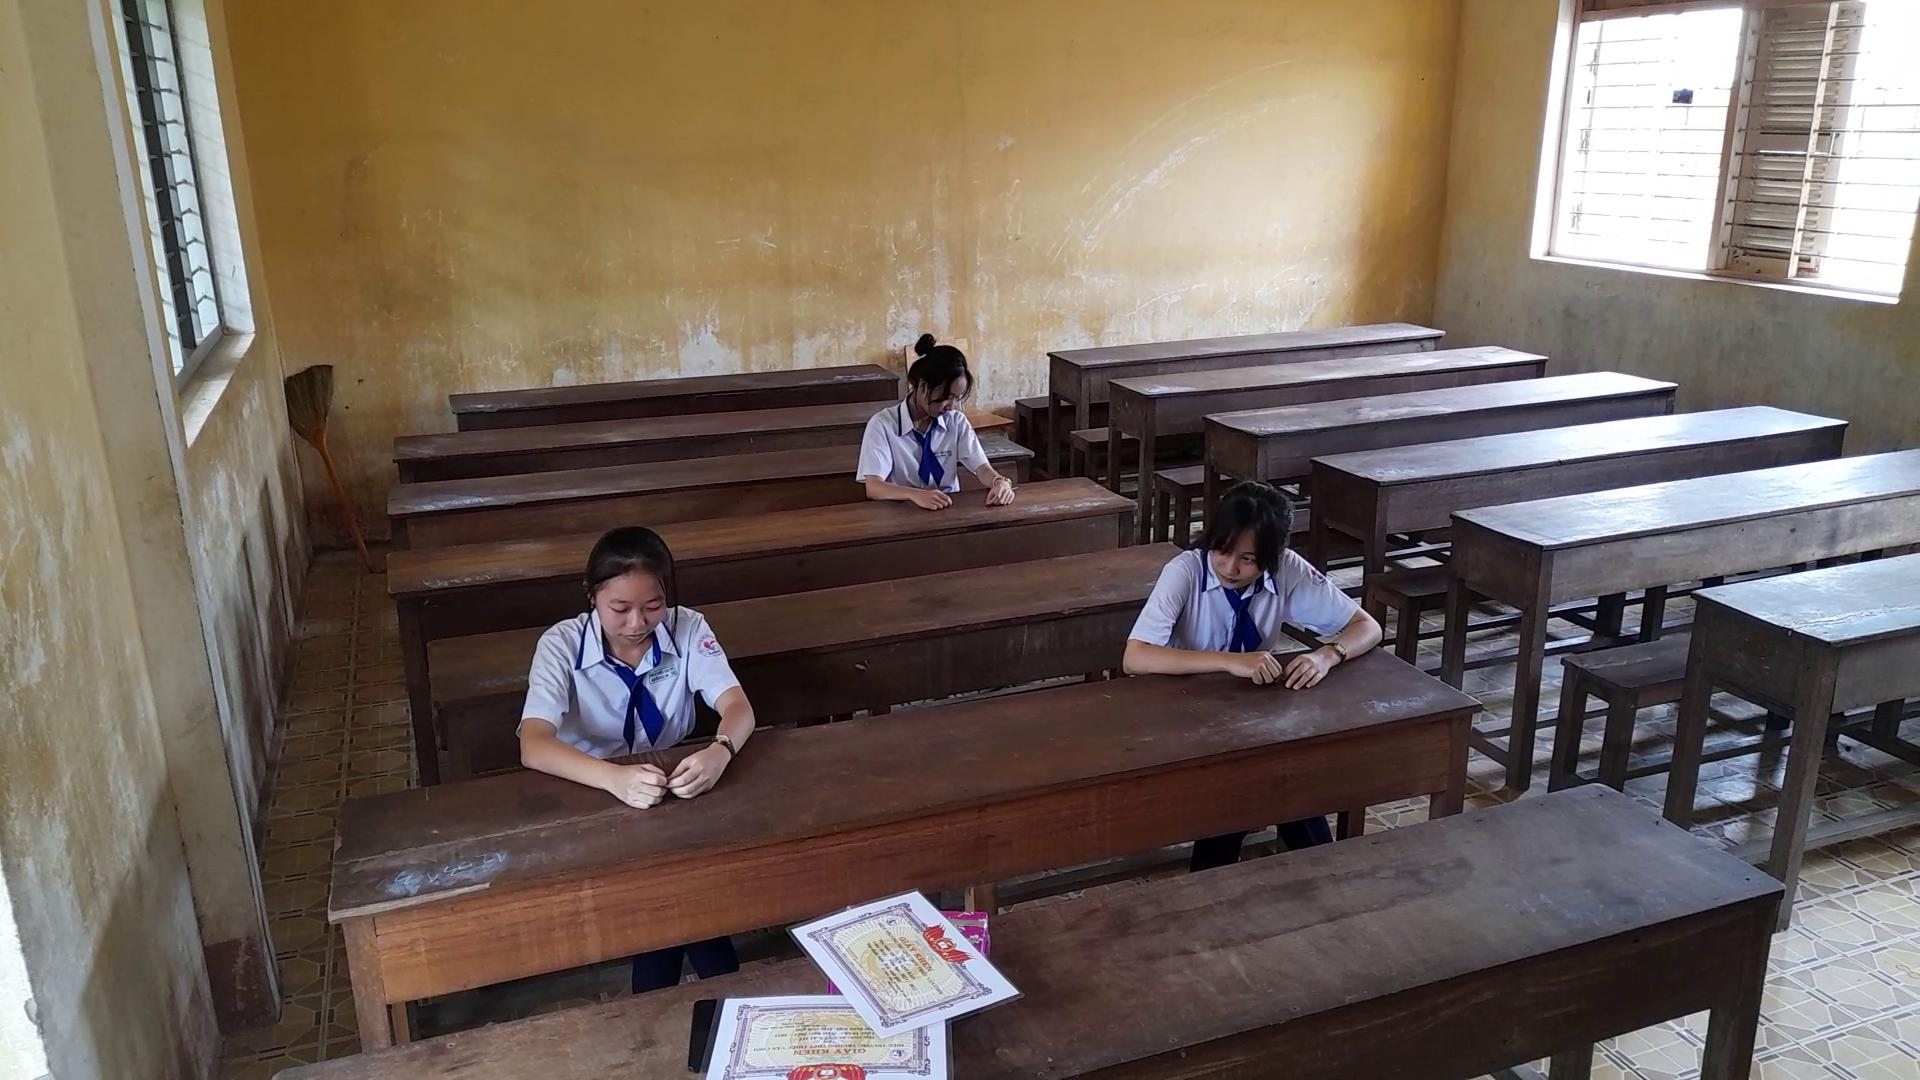Bend Over The Desk: (876, 326, 977, 443)
Look Around: (1183, 476, 1294, 604)
Normal: (488, 502, 771, 811)
